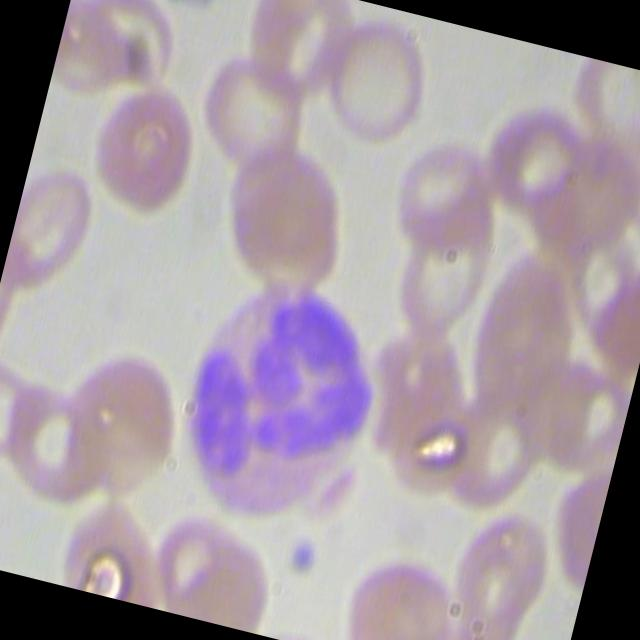Platelets: (283, 524, 329, 584)
RBC: (210, 130, 372, 304), (457, 242, 600, 439), (44, 334, 196, 512), (373, 186, 509, 356), (312, 1, 448, 150), (78, 72, 214, 221), (378, 116, 514, 264), (140, 504, 288, 634), (187, 46, 319, 186), (442, 493, 561, 638), (227, 0, 365, 114), (2, 148, 104, 296), (46, 489, 174, 606), (336, 530, 472, 640)
WBC: (142, 246, 406, 544)
